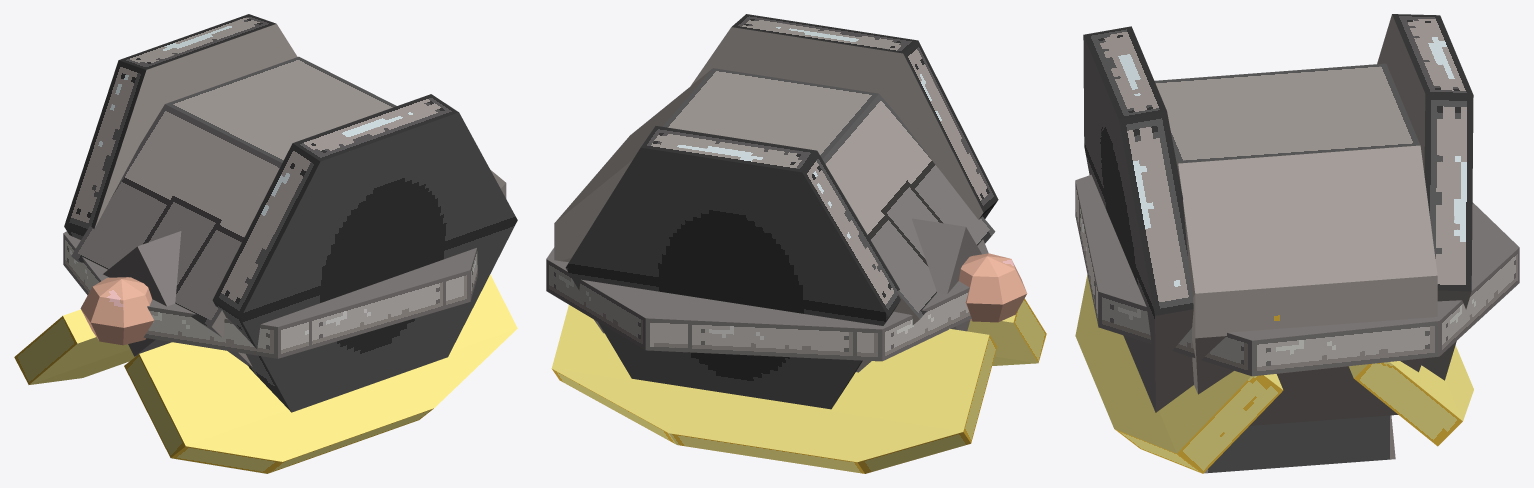
The model's file is StandardTorso.gltf.
The picture shows the model from 3 angles, left to right: view 1: azimuth 30°, elevation 25°; view 2: azimuth 150°, elevation 25°; view 3: azimuth 270°, elevation 25°; orthographic projection. The views are drawn at different scales.
Parts seen in each view (by area): view 1: Armor2, Torso, Loop3, Armor1, MidPart, Loop2, core, cube; view 2: Armor1, Loop2, Torso, MidPart, Armor2, core, cube, Loop3; view 3: Torso, Armor2, MidPart, Armor1, Loop3, LowerTorso, Loop2.
Part boxes in pixels (x1,y1,x2,y2): Armor2: (212, 94, 517, 412); Torso: (71, 56, 506, 366); Loop3: (124, 274, 517, 473); Armor1: (64, 14, 297, 239); MidPart: (63, 231, 477, 358); Loop2: (14, 309, 135, 384); core: (80, 277, 153, 345); cube: (103, 231, 181, 356); Armor1: (565, 126, 900, 409); Loop2: (551, 305, 997, 473); Torso: (554, 68, 995, 372); MidPart: (546, 239, 988, 361); Armor2: (691, 14, 998, 219); core: (959, 253, 1027, 322); cube: (911, 218, 981, 331); Loop3: (967, 298, 1046, 365); Torso: (1154, 63, 1437, 425); Armor2: (1083, 26, 1193, 412); MidPart: (1075, 174, 1519, 376); Armor1: (1377, 14, 1473, 380); Loop3: (1075, 274, 1283, 473); LowerTorso: (1204, 415, 1395, 473); Loop2: (1349, 345, 1473, 446).
Bounding box in the file's own units: 0.6955 × 0.5024 × 0.564.
Materials: 1 (1 with a texture image).
